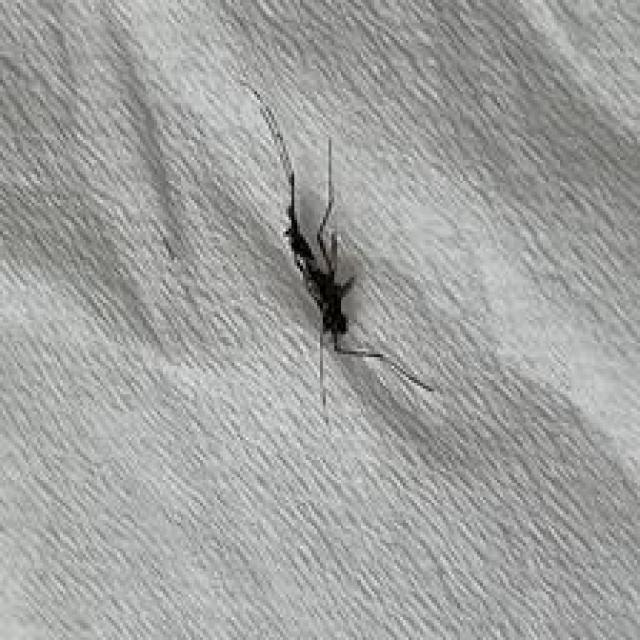Aedes albopictus: (238, 83, 436, 414)
